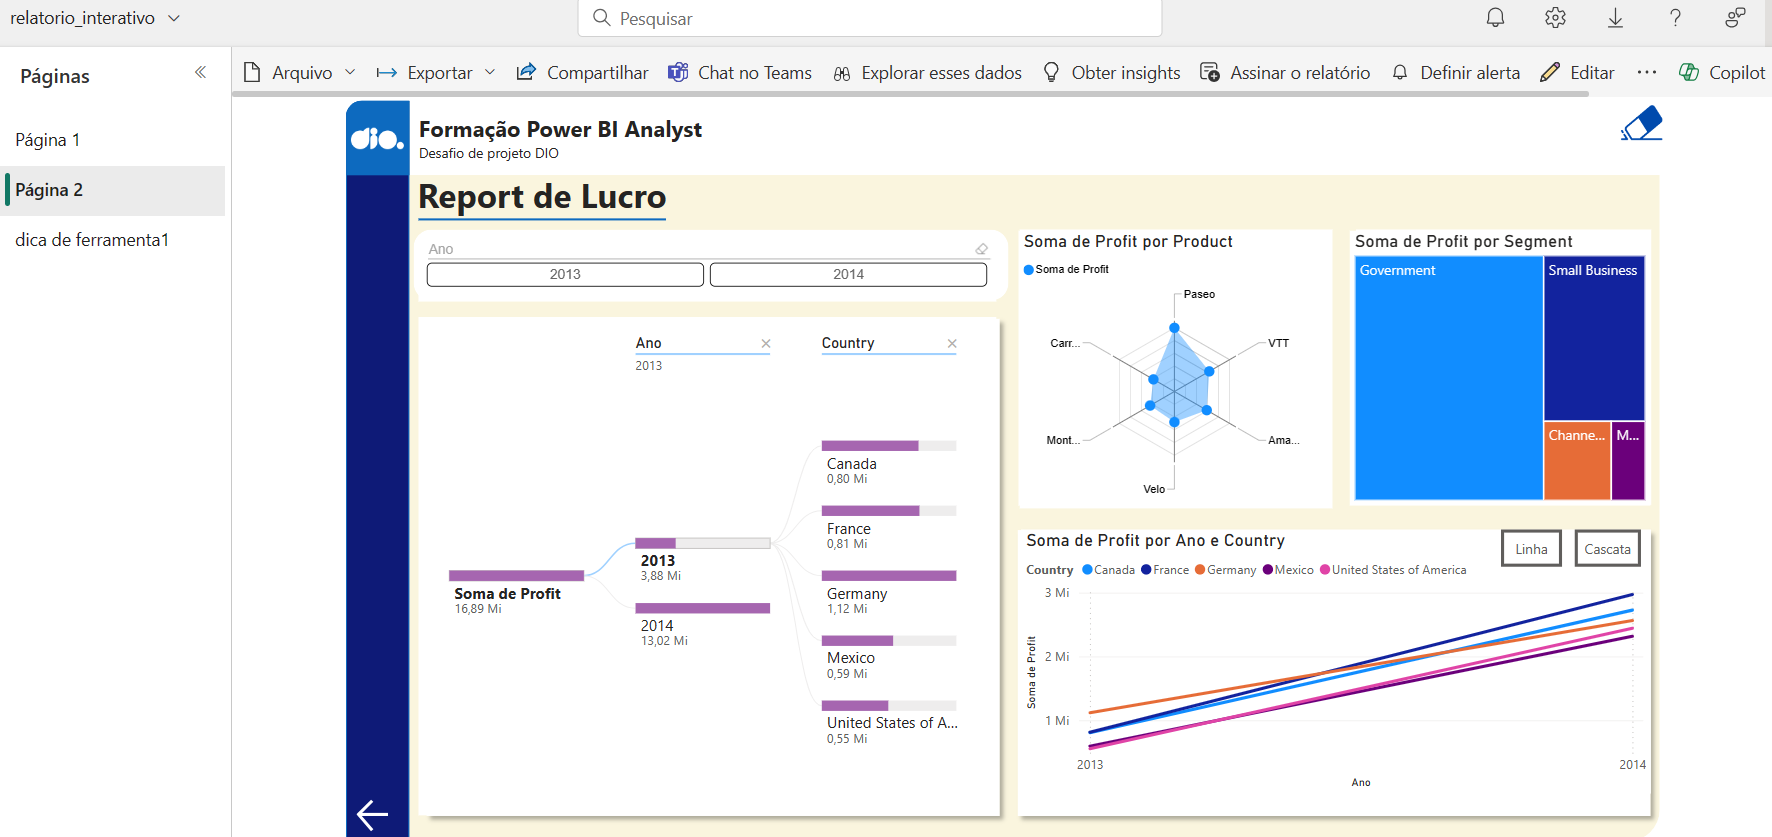

The dashboard page shown, as its layout file describes it:
{"tool":"powerbi","page":{"name":"Página 2","canvas":[1280,720],"ordinal":1},"visuals":[{"type":"shape","box":[31.6,3.4,1238.3,716.1],"z":0},{"type":"image","title":"borracha","box":[1197.7,85.7,55.3,55.3],"z":0,"group":"g2"},{"type":"shape","box":[65.4,163.5,206.2,97.3],"z":0,"group":"g1"},{"type":"clusteredBarChart","title":"Sale x Segmento","fields":{"Category":["financials (2).Segment"],"Y":["Sum(financials (2). Sales)"]},"box":[65.5,465.6,378.2,238.2],"z":0,"group":"g4"},{"type":"filledMap","title":"Country e  Sales","fields":{"Category":["financials (2).Country"],"Series":["financials (2). Sales"]},"box":[890.9,465.7,358.6,245.9],"z":0,"group":"g3"},{"type":"shape","box":[0,3.9,61.3,715.9],"z":1000},{"type":"slicer","fields":{"Values":["financials (2).Date"]},"box":[930.3,88.9,267.8,52],"z":1000,"group":"g2"},{"type":"shape","box":[309.5,163.5,206.2,97.3],"z":1000,"group":"g1"},{"type":"actionButton","title":"Bar -botão","box":[279.8,465.6,79.9,30],"z":1500,"group":"g4"},{"type":"actionButton","title":"MapChart -botão","box":[1080.1,465.6,79.9,30],"z":1500,"group":"g3"},{"type":"shape","box":[0,3.9,61.3,72],"z":2000},{"type":"textbox","box":[747.4,93.9,182.9,37],"z":2000,"group":"g2"},{"type":"shape","box":[554.6,163.5,206.2,97.3],"z":2000,"group":"g1"},{"type":"actionButton","title":"Pie Chart -botão","box":[363.8,465.6,79.9,30],"z":2000,"group":"g4"},{"type":"actionButton","title":"TreeMap -botão","box":[1169.1,465.6,79.9,30],"z":2000,"group":"g3"},{"type":"image","title":"Logo_dio","box":[0,6.8,61.3,65.2],"z":3000},{"type":"actionButton","box":[1198,93.9,63,44],"z":3000,"group":"g2"},{"type":"shape","box":[802.7,163.5,206.2,97.3],"z":3000,"group":"g1"},{"type":"shape","box":[61.3,3.9,1209,72],"z":4000},{"type":"shape","box":[1046.8,163.5,206.2,97.3],"z":4000,"group":"g1"},{"type":"textbox","box":[65.2,10.7,574.8,57.4],"z":5000},{"type":"textbox","box":[68.3,89,212,57.5],"z":5000,"group":"g1"},{"type":"shape","box":[68.8,117.3,203,46.2],"z":6000},{"type":"card","fields":{"Values":["Sum(financials (2).Units Sold)"]},"box":[311.3,163.5,203,97],"z":6000,"group":"g1"},{"type":"card","fields":{"Values":["Sum(financials (2). Sales)"]},"box":[68.8,163.5,203,97],"z":7000,"group":"g1"},{"type":"shape","box":[60.9,269.5,1199.9,196.2],"z":7000},{"type":"card","fields":{"Values":["Sum(financials (2).Discounts)"]},"box":[556,163.5,203,97],"z":8000,"group":"g1"},{"type":"shape","box":[65.4,465.8,377.8,245.9],"z":8000},{"type":"card","fields":{"Values":["Sum(financials (2). Sales)"]},"box":[1046.5,163.5,203,97],"z":9000,"group":"g1"},{"type":"shape","box":[464.6,465.8,408.2,245.9],"z":9000},{"type":"card","fields":{"Values":["Sum(financials (2).COGS)"]},"box":[803,163.5,203,97],"z":10000,"group":"g1"},{"type":"shape","box":[890.9,465.8,360.9,245.9],"z":10000},{"type":"areaChart","fields":{"Category":["financials (2).Date.Variation.Hierarquia de datas.Mês"],"Y":["Sum(financials (2). Sales)"]},"box":[68.8,280.8,1183,173.7],"z":11000},{"type":"clusteredBarChart","title":"Sales x Product","fields":{"Y":["Sum(financials (2). Sales)"],"Category":["financials (2).Product"]},"box":[464.6,465.8,408.2,245.9],"z":12000},{"type":"group","id":"g1","title":"Cartões","box":[65.4,89,1187.6,171.8],"z":13000},{"type":"group","id":"g2","title":"Filtro x Data","box":[747.4,85.7,513.6,55.3],"z":14000},{"type":"group","id":"g3","title":"map_treemap","box":[890.9,465.6,358.6,246],"z":15000},{"type":"group","id":"g4","title":"donut_bar","box":[61,465.6,382.7,245.8],"z":16000},{"type":"actionButton","title":"Next","box":[8,660.5,47,43],"z":17000}]}

Visuals, with their boxes on the page's 1280x720 design canvas (x1, y1, x2, y2). These are canvas units, not pixel positions in the 1772x837 screenshot, which may show the page scaled, cropped or inside an application window:
shape: (left=32, top=3, right=1270, bottom=720)
"borracha" image: (left=1198, top=86, right=1253, bottom=141)
shape: (left=65, top=164, right=272, bottom=261)
"Sale x Segmento" clusteredBarChart: (left=66, top=466, right=444, bottom=704)
"Country e  Sales" filledMap: (left=891, top=466, right=1250, bottom=712)
shape: (left=0, top=4, right=61, bottom=720)
slicer - financials (2).Date: (left=930, top=89, right=1198, bottom=141)
shape: (left=310, top=164, right=516, bottom=261)
"Bar -botão" actionButton: (left=280, top=466, right=360, bottom=496)
"MapChart -botão" actionButton: (left=1080, top=466, right=1160, bottom=496)
shape: (left=0, top=4, right=61, bottom=76)
textbox: (left=747, top=94, right=930, bottom=131)
shape: (left=555, top=164, right=761, bottom=261)
"Pie Chart -botão" actionButton: (left=364, top=466, right=444, bottom=496)
"TreeMap -botão" actionButton: (left=1169, top=466, right=1249, bottom=496)
"Logo_dio" image: (left=0, top=7, right=61, bottom=72)
actionButton: (left=1198, top=94, right=1261, bottom=138)
shape: (left=803, top=164, right=1009, bottom=261)
shape: (left=61, top=4, right=1270, bottom=76)
shape: (left=1047, top=164, right=1253, bottom=261)
textbox: (left=65, top=11, right=640, bottom=68)
textbox: (left=68, top=89, right=280, bottom=146)
shape: (left=69, top=117, right=272, bottom=164)
card - Sum(financials (2).Units Sold): (left=311, top=164, right=514, bottom=260)
card - Sum(financials (2). Sales): (left=69, top=164, right=272, bottom=260)
shape: (left=61, top=270, right=1261, bottom=466)
card - Sum(financials (2).Discounts): (left=556, top=164, right=759, bottom=260)
shape: (left=65, top=466, right=443, bottom=712)
card - Sum(financials (2). Sales): (left=1046, top=164, right=1250, bottom=260)
shape: (left=465, top=466, right=873, bottom=712)
card - Sum(financials (2).COGS): (left=803, top=164, right=1006, bottom=260)
shape: (left=891, top=466, right=1252, bottom=712)
areaChart - financials (2).Date.Variation.Hierarquia de datas.Mês x Sum(financials (2). Sales): (left=69, top=281, right=1252, bottom=454)
"Sales x Product" clusteredBarChart: (left=465, top=466, right=873, bottom=712)
"Cartões" group: (left=65, top=89, right=1253, bottom=261)
"Filtro x Data" group: (left=747, top=86, right=1261, bottom=141)
"map_treemap" group: (left=891, top=466, right=1250, bottom=712)
"donut_bar" group: (left=61, top=466, right=444, bottom=711)
"Next" actionButton: (left=8, top=660, right=55, bottom=704)
